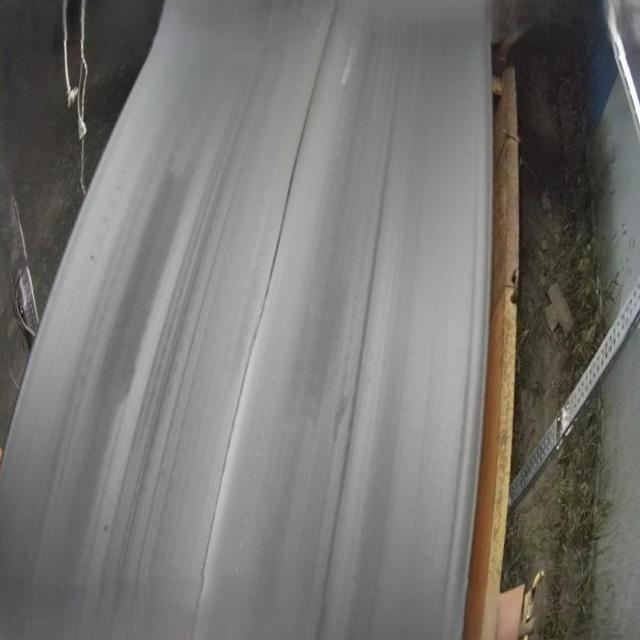Tear: (186, 0, 344, 640)
